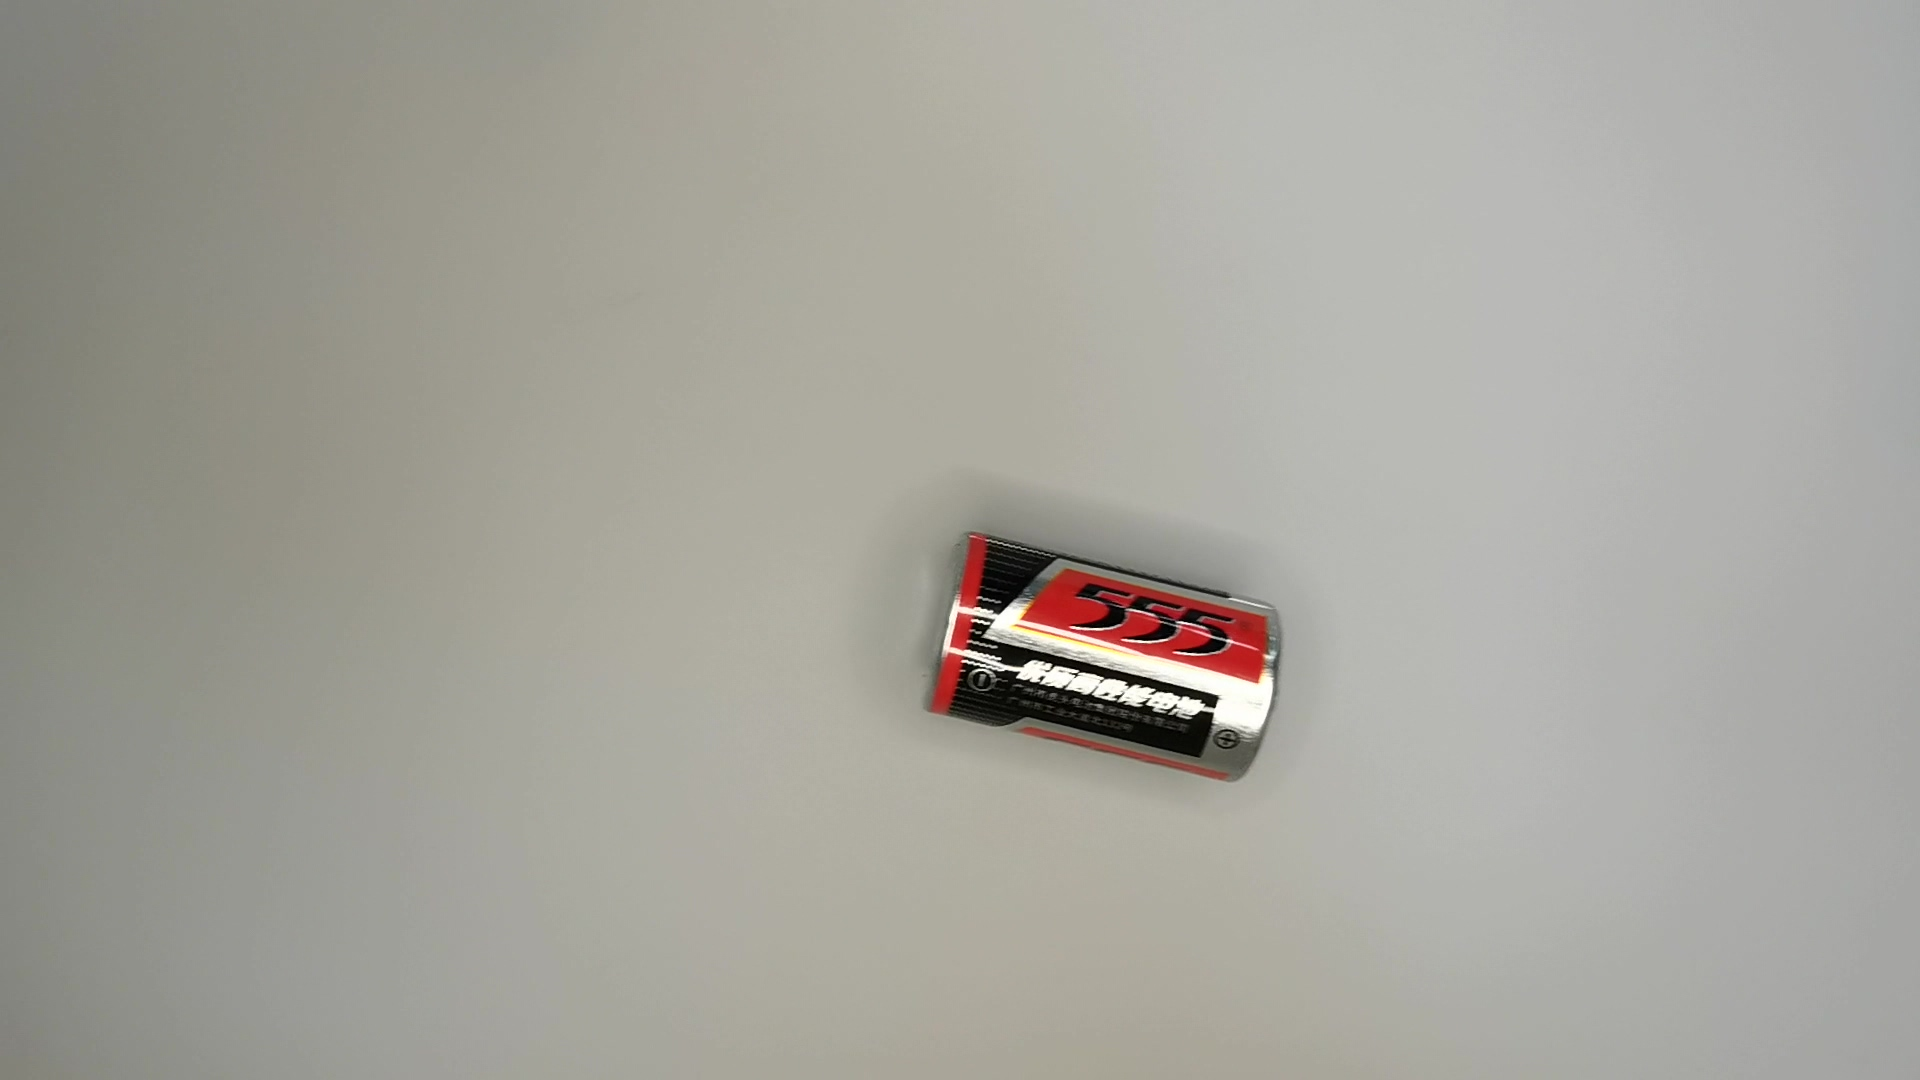battery: (920, 531, 1282, 783)
